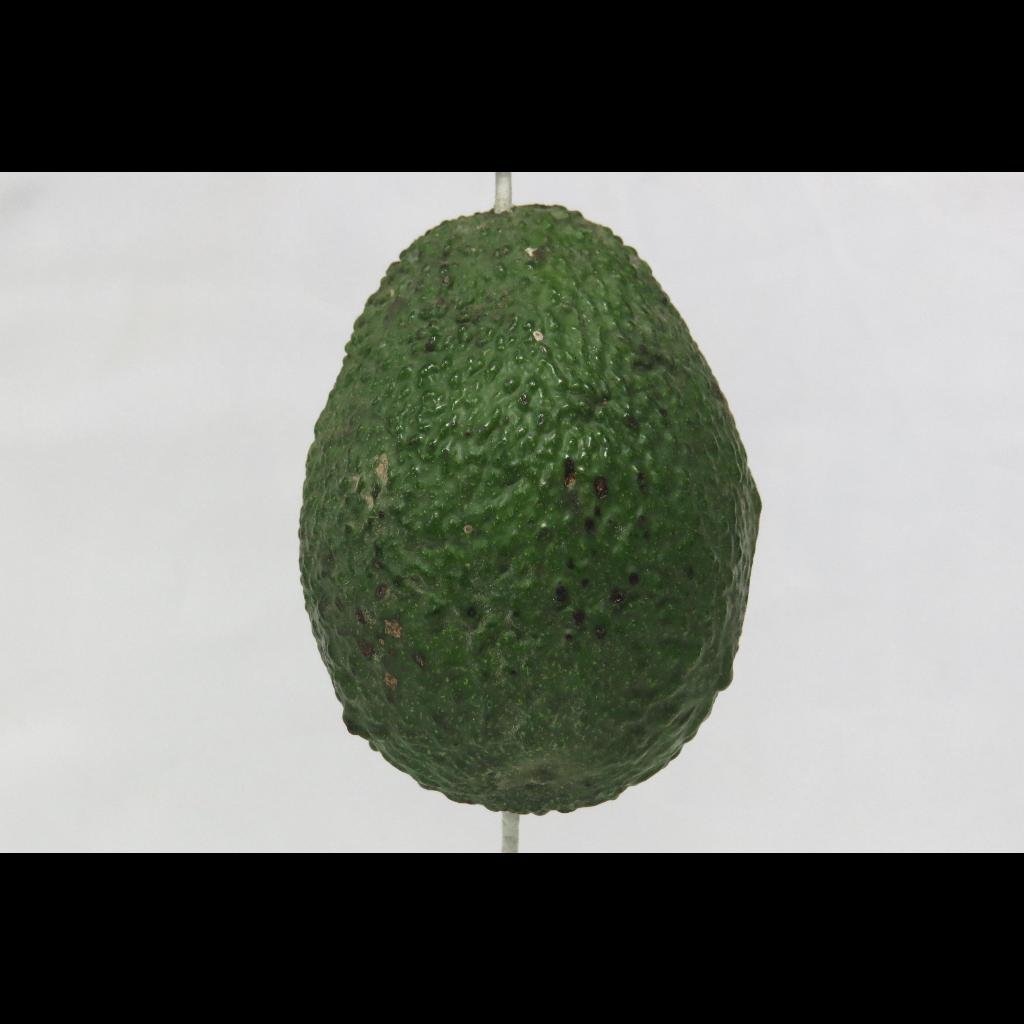fruto_sano: (207, 187, 785, 839)
